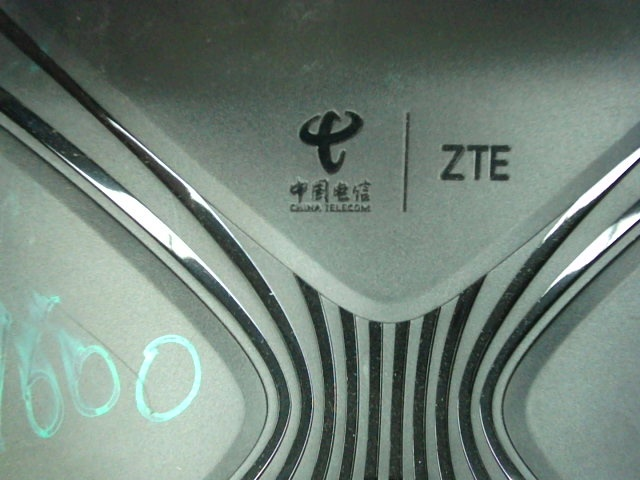AX_ZTEChinaTelecom: (269, 104, 526, 217)
